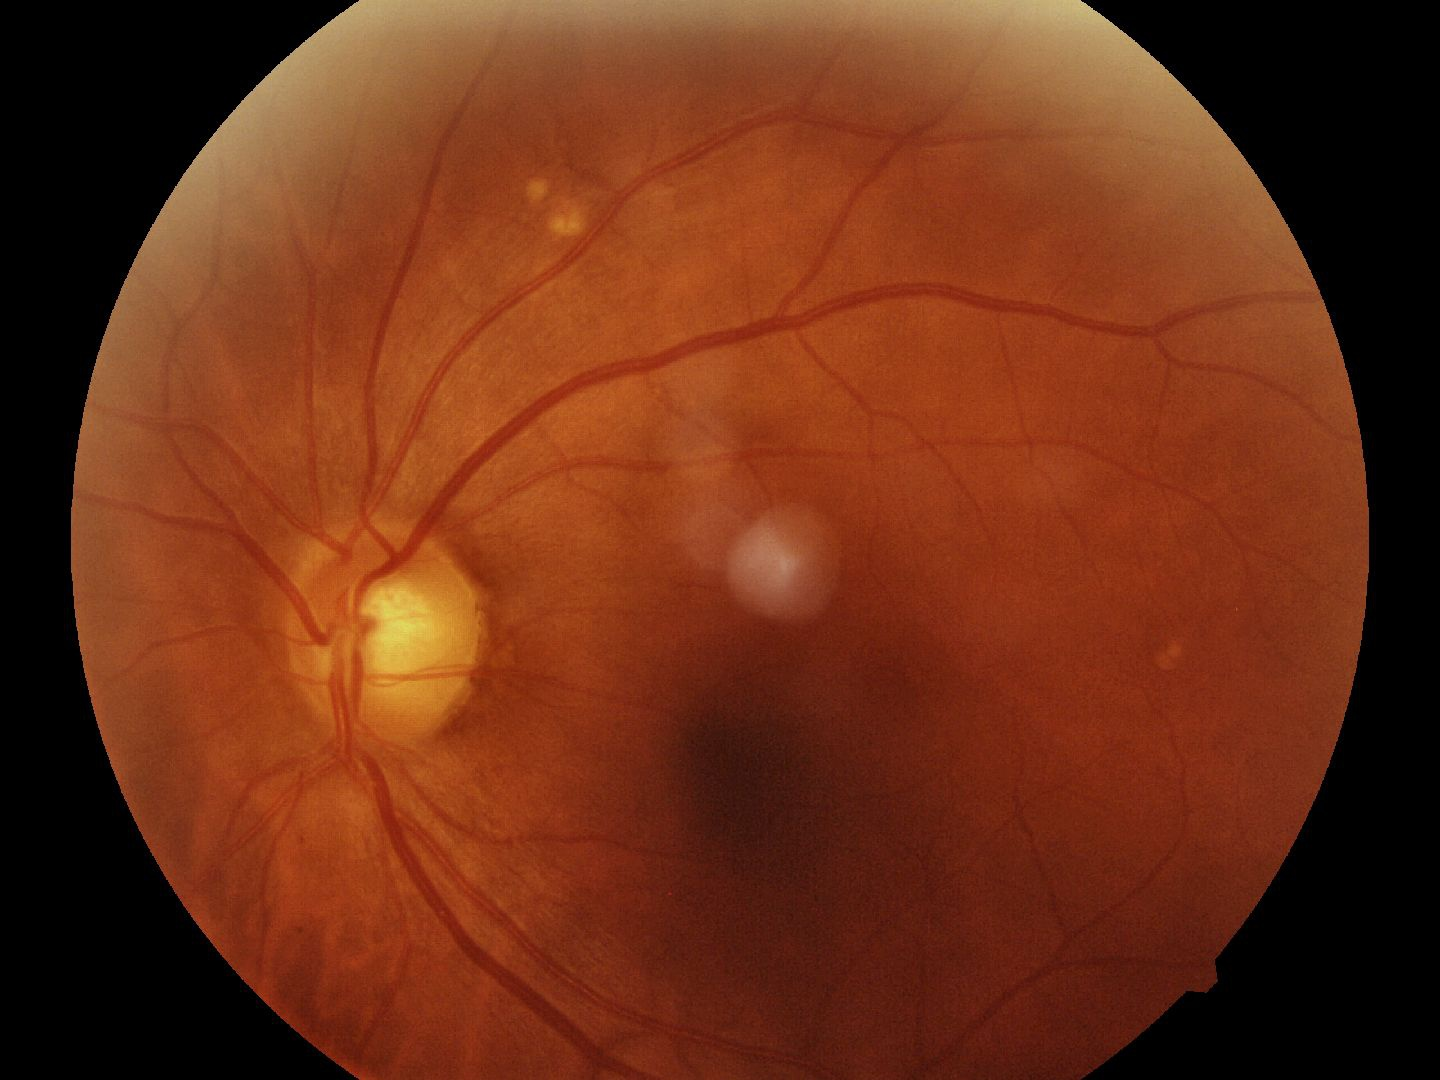Exudates: (525, 166, 592, 247)
Hemorrhages: (686, 684, 839, 908)
Optic-Disc: (282, 528, 494, 754)
Venules: (363, 313, 918, 419), (390, 810, 594, 1043)
